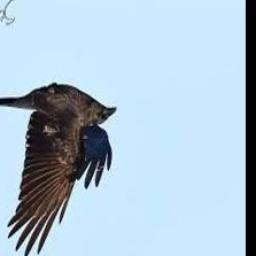Crow: (0, 84, 116, 256)
